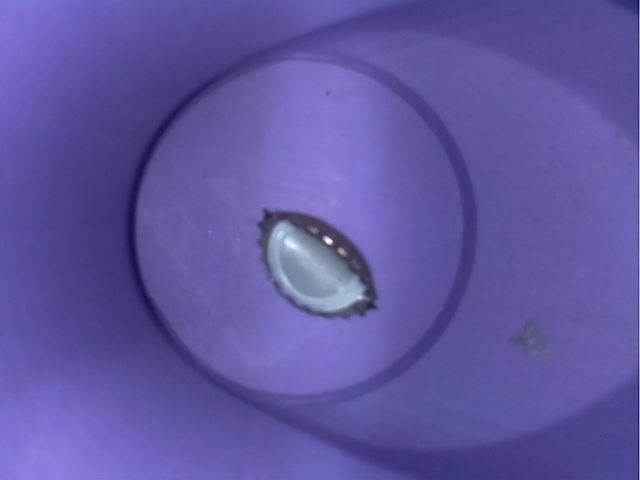capsule: (231, 192, 394, 328)
